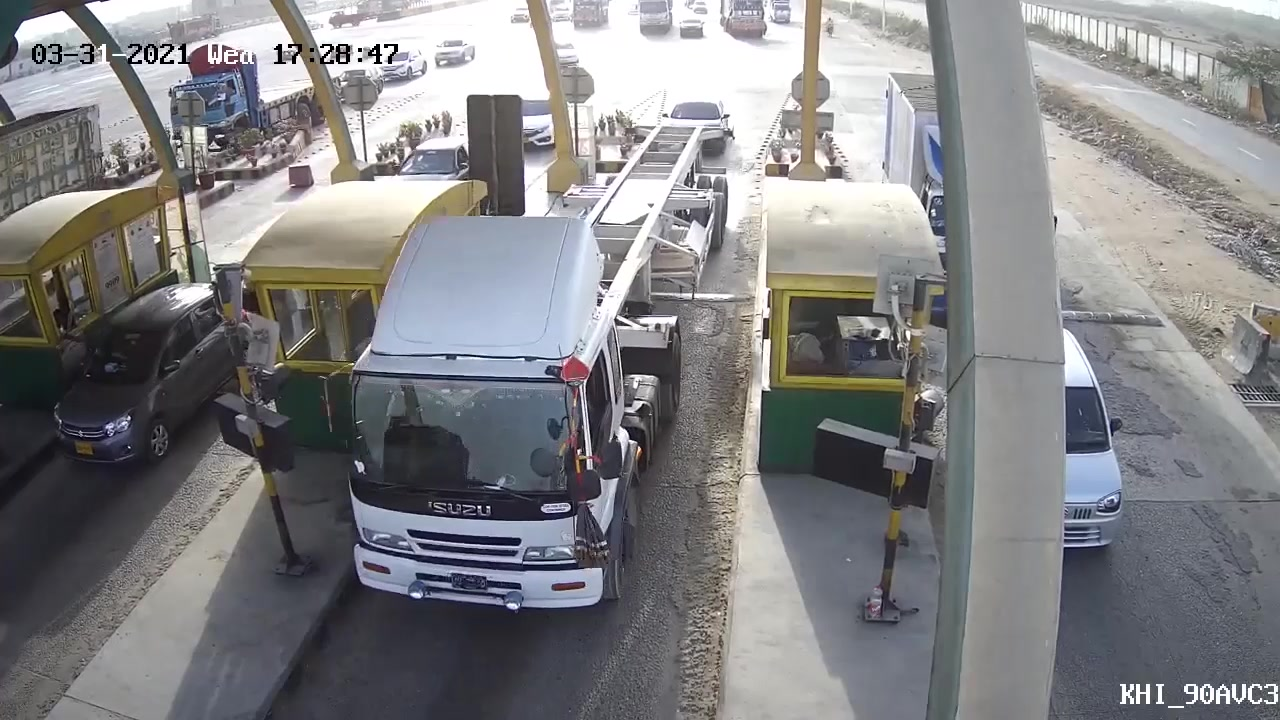F6: (333, 122, 729, 635)
